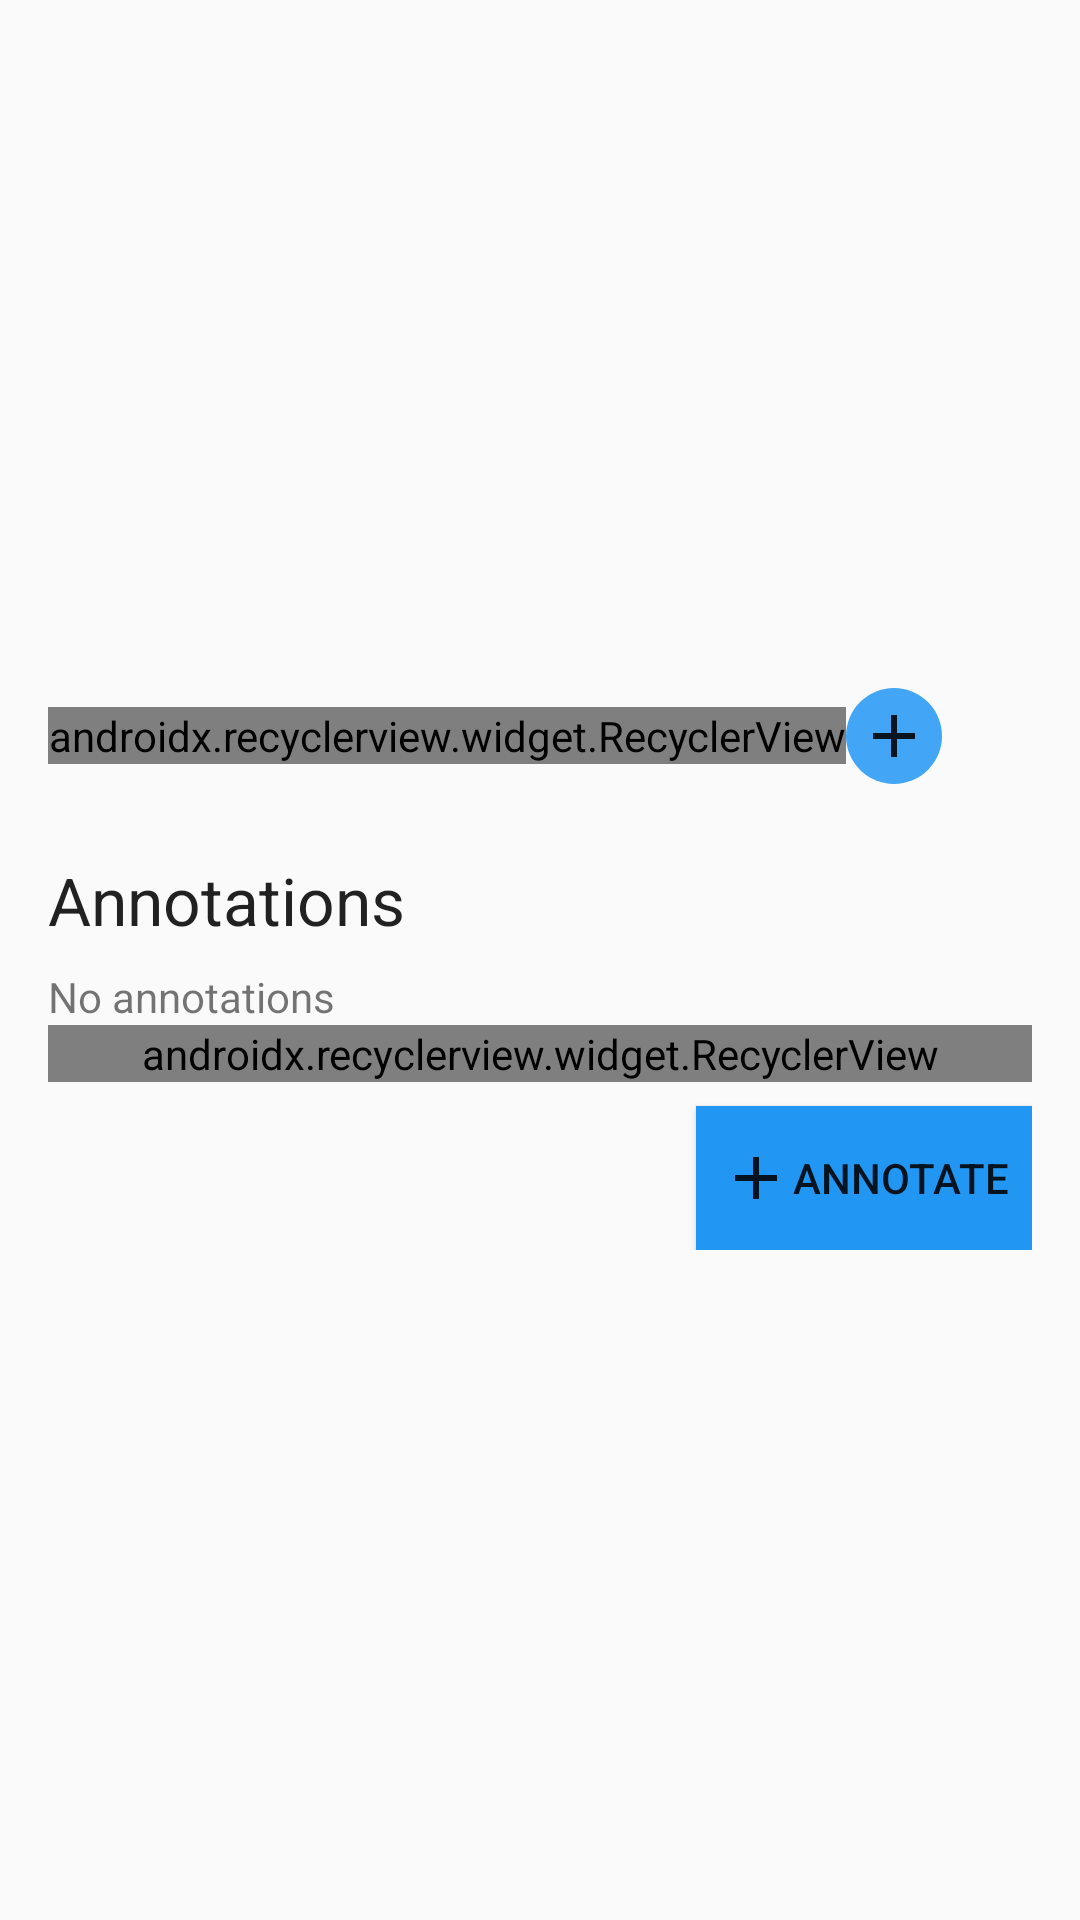

Screen size 1080px x 1920px. Icon name, then its center in pixels as (x,y):
add: (894,736)
